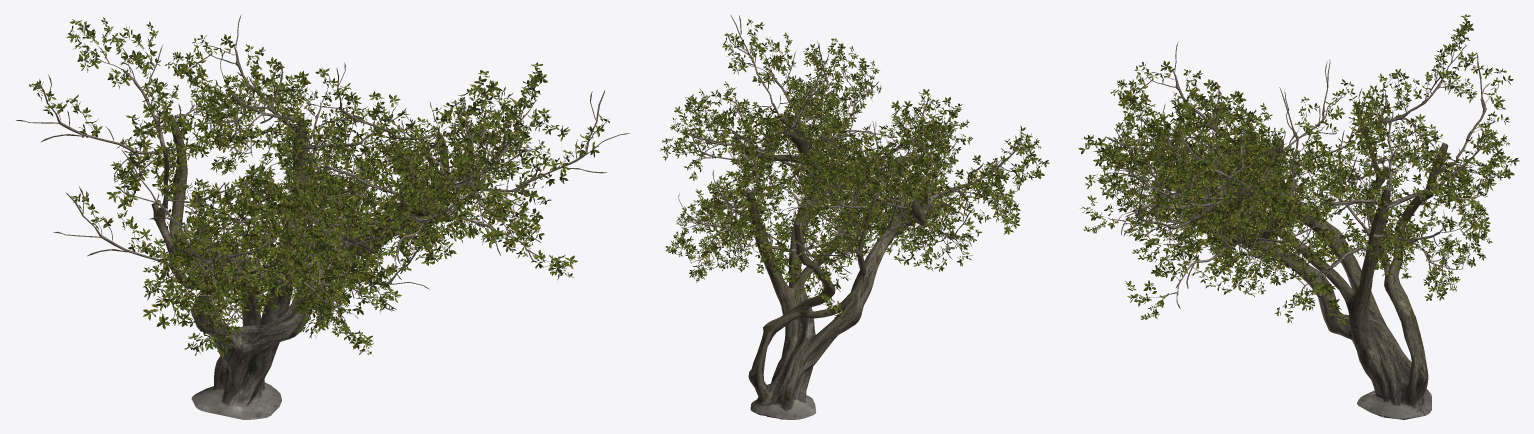
The model's file is island_tree_02.glb.
The picture shows the model from 3 angles, left to right: view 1: azimuth 30°, elevation 25°; view 2: azimuth 150°, elevation 25°; view 3: azimuth 270°, elevation 25°; orthographic projection. The views are drawn at different scales.
Visible parts, largest first — view 1: island_tree_02_LOD0; view 2: island_tree_02_LOD0; view 3: island_tree_02_LOD0.
Part boxes in pixels (x1,y1,x2,y2): island_tree_02_LOD0: (16,14,629,419); island_tree_02_LOD0: (660,14,1049,419); island_tree_02_LOD0: (1078,14,1519,419).
Size of the model in its own units: 4.21 by 3.41 by 4.07.
Materials: 3 (3 with a texture image).
